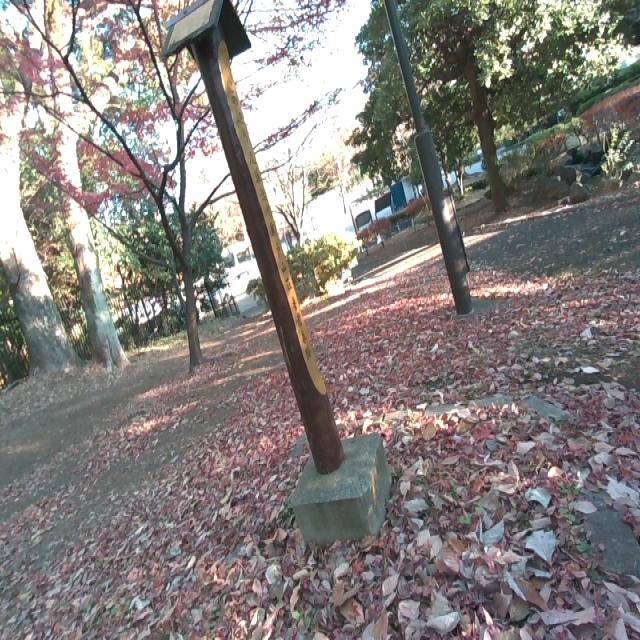artifact: (155, 4, 386, 538)
bush: (242, 233, 356, 308)
tree: (89, 0, 226, 367), (365, 0, 491, 314), (27, 0, 130, 371), (0, 28, 90, 372)
